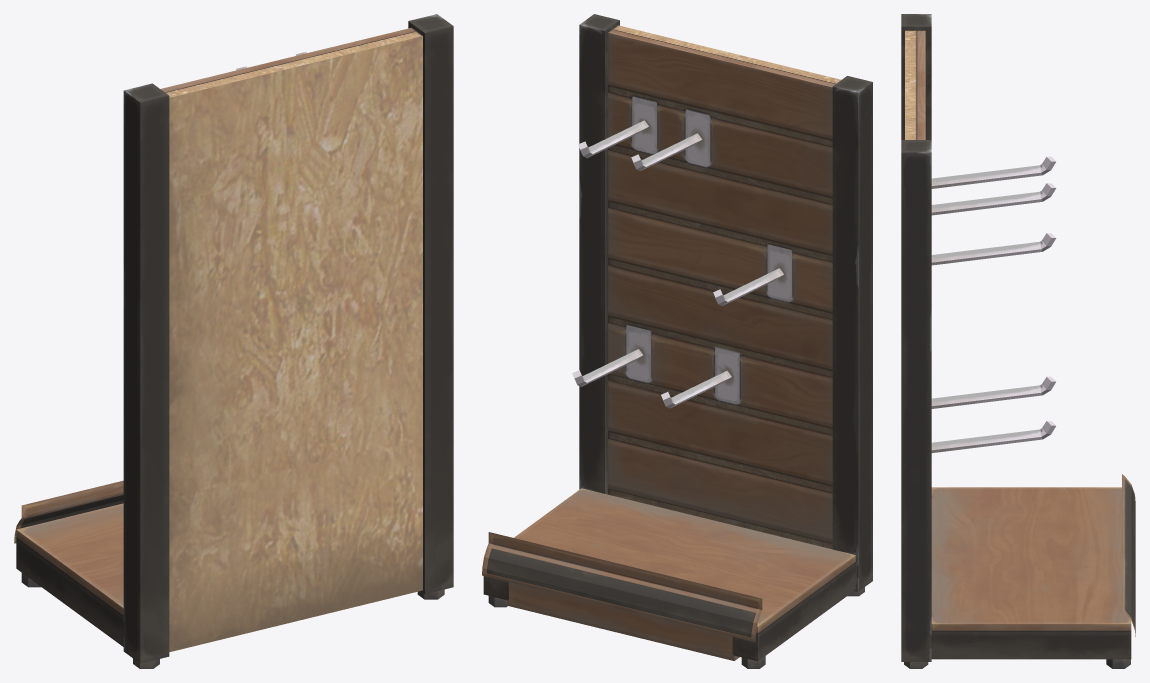
File: P_Shelf_011_S1_M02.obj
The picture shows the model from 3 angles, left to right: view 1: azimuth 30°, elevation 25°; view 2: azimuth 150°, elevation 25°; view 3: azimuth 270°, elevation 25°; orthographic projection. The views are drawn at different scales.
Bounding box in the file's own units: 1.01 × 1.75 × 0.7173.
1 material, 1 textured.
